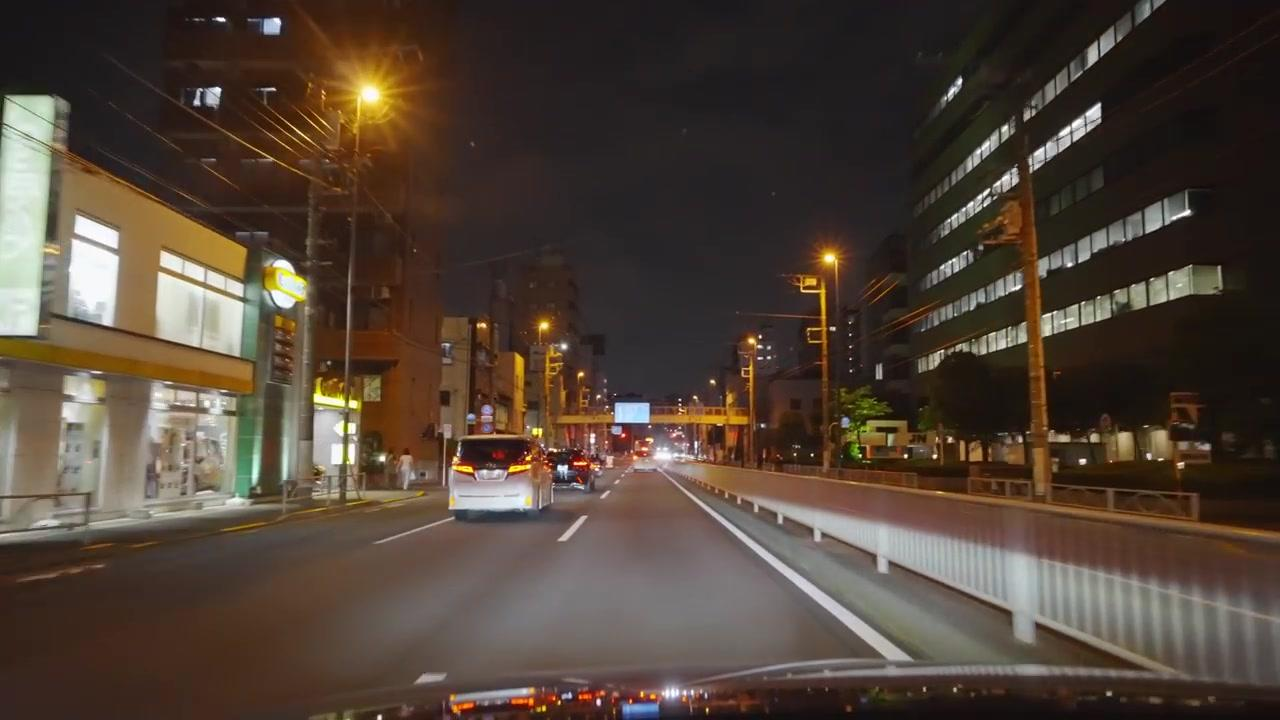car: (448, 434, 556, 521), (550, 450, 595, 489)
person: (396, 448, 414, 490)
traffic light: (270, 313, 297, 384)
